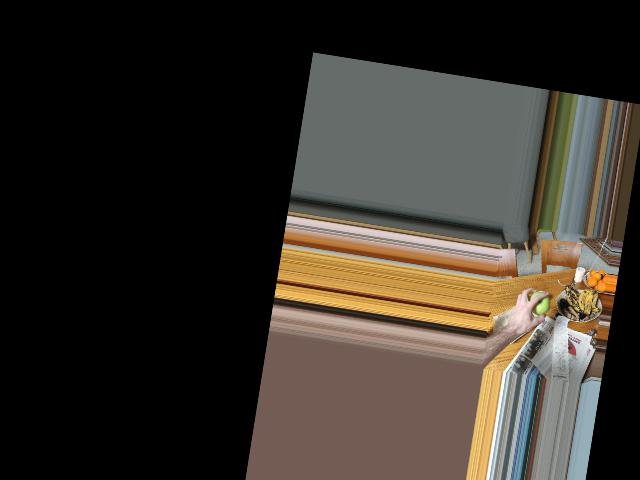apple: (527, 291, 550, 317)
